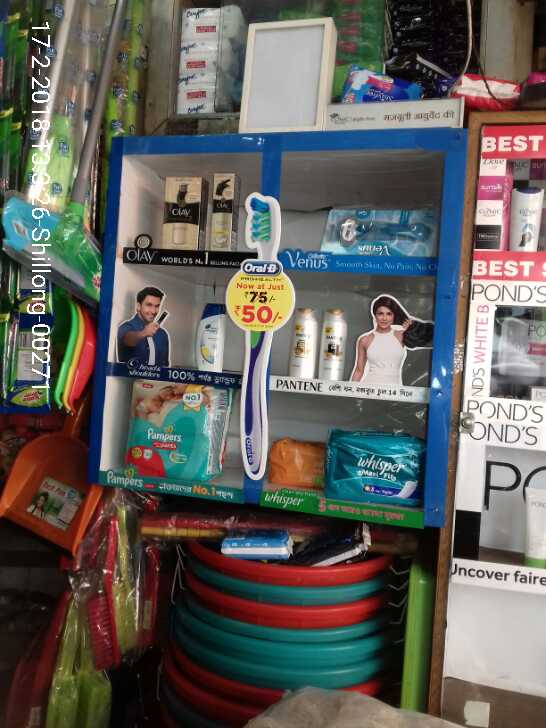venus: (324, 210, 433, 253)
